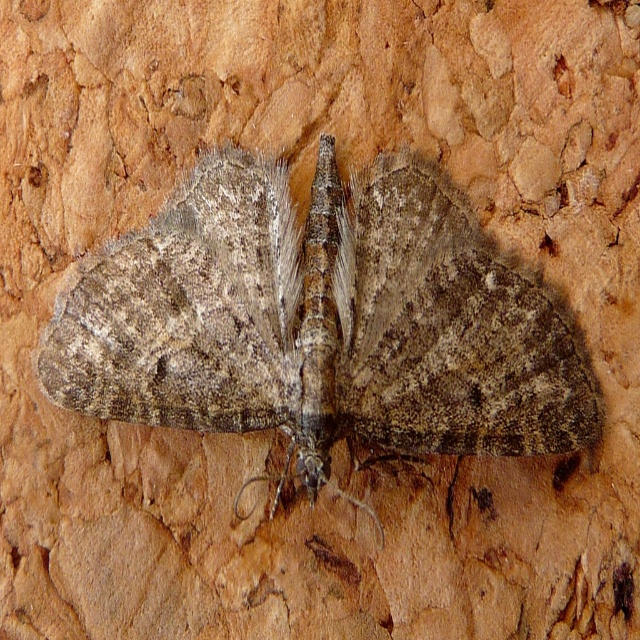Moths and butterflies: (29, 128, 613, 552)
